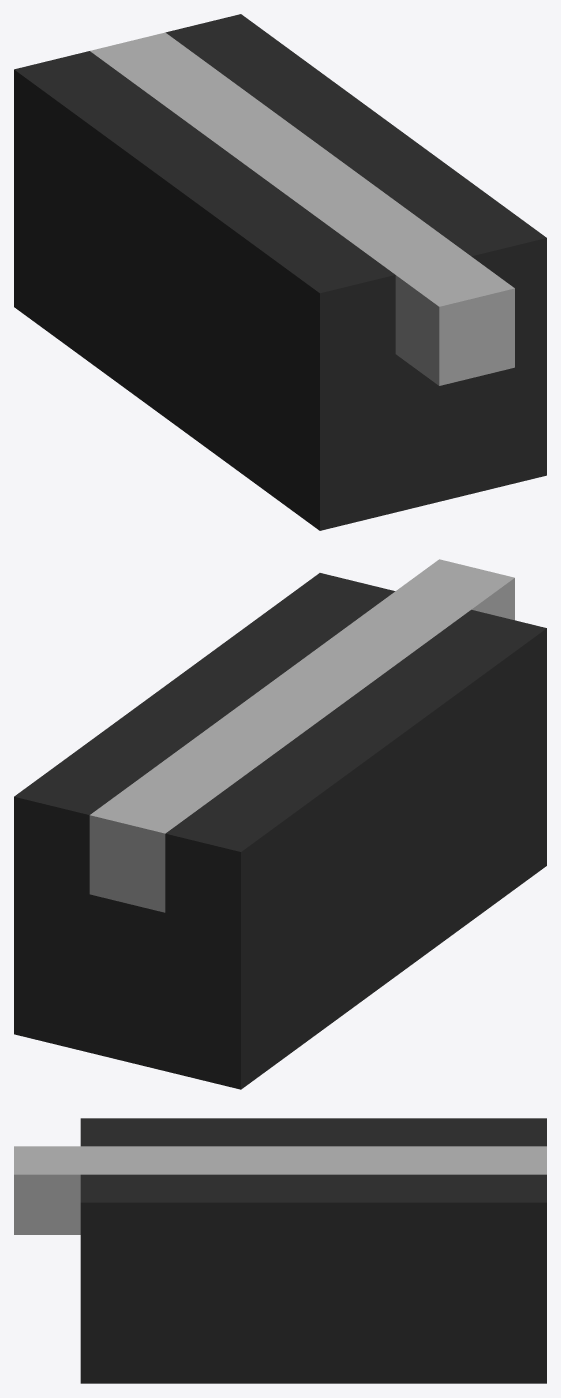
Rendered from case.glb.
3 renders of one model, top to bottom at view 1: azimuth 30°, elevation 25°; view 2: azimuth 150°, elevation 25°; view 3: azimuth 270°, elevation 25°, orthographic. The views are drawn at different scales.
Visible parts, largest first — view 1: Untitled; view 2: Untitled; view 3: Untitled.
Part boxes in pixels (left/top/right/bottom): Untitled: left=14, top=14, right=546, bottom=530; Untitled: left=14, top=559, right=546, bottom=1089; Untitled: left=14, top=1118, right=546, bottom=1383.
Size of the model in its own units: 0.09 by 0.09 by 0.24.
Materials: 1 (1 with a texture image).
